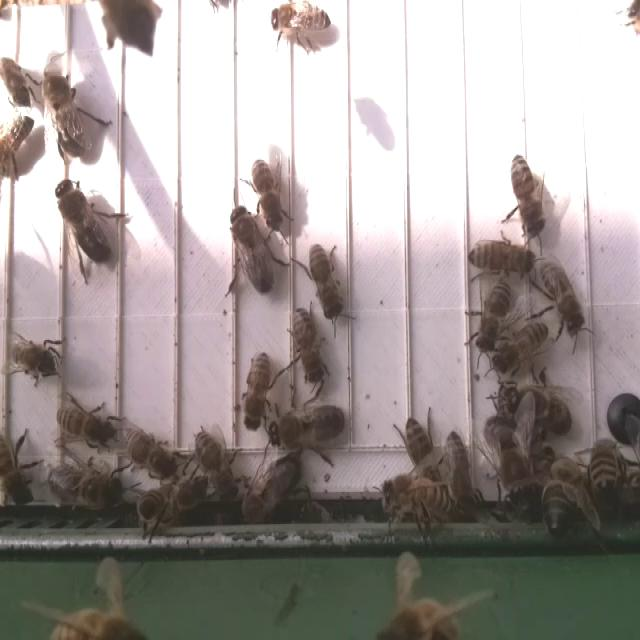Drone: (39, 55, 90, 163), (54, 175, 112, 269), (229, 202, 278, 297), (266, 400, 348, 455), (502, 380, 575, 440), (47, 458, 126, 509)
Worker: (539, 257, 588, 340), (493, 315, 550, 380), (466, 232, 537, 281), (509, 148, 547, 239), (192, 423, 238, 498), (290, 303, 328, 392), (307, 239, 346, 325), (51, 401, 115, 451), (474, 275, 512, 358), (119, 426, 177, 480), (250, 154, 287, 233), (241, 346, 274, 432), (266, 1, 334, 36), (6, 338, 62, 379)
